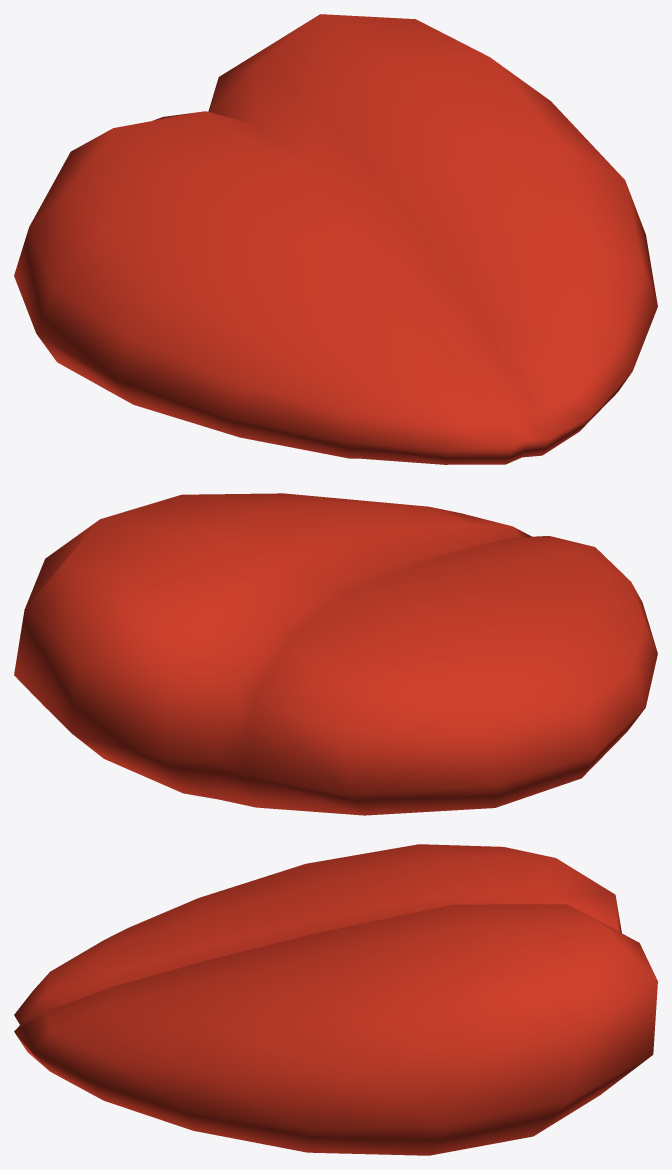
Rendered from Chicken.obj.
3 renders of one model, top to bottom at view 1: azimuth 30°, elevation 25°; view 2: azimuth 150°, elevation 25°; view 3: azimuth 270°, elevation 25°, orthographic. The views are drawn at different scales.
Visible parts, largest first — view 1: Cube; view 2: Cube; view 3: Cube.
Boxes of the visible parts, x1,y1,x2,y2 form: Cube: (14,14,657,464); Cube: (14,493,657,815); Cube: (14,844,657,1155).
Bounding box in the file's own units: 2.7 × 0.9968 × 2.98.
